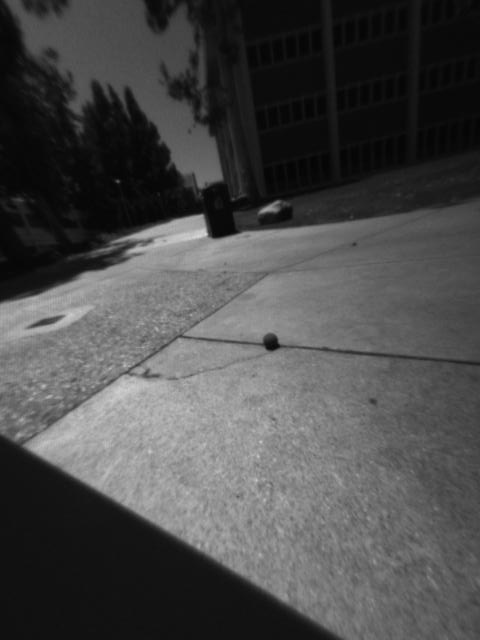dogtoy: (256, 329, 292, 356)
